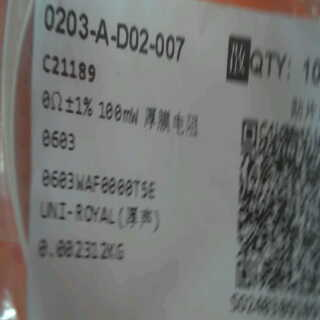0R: (36, 86, 91, 152)
